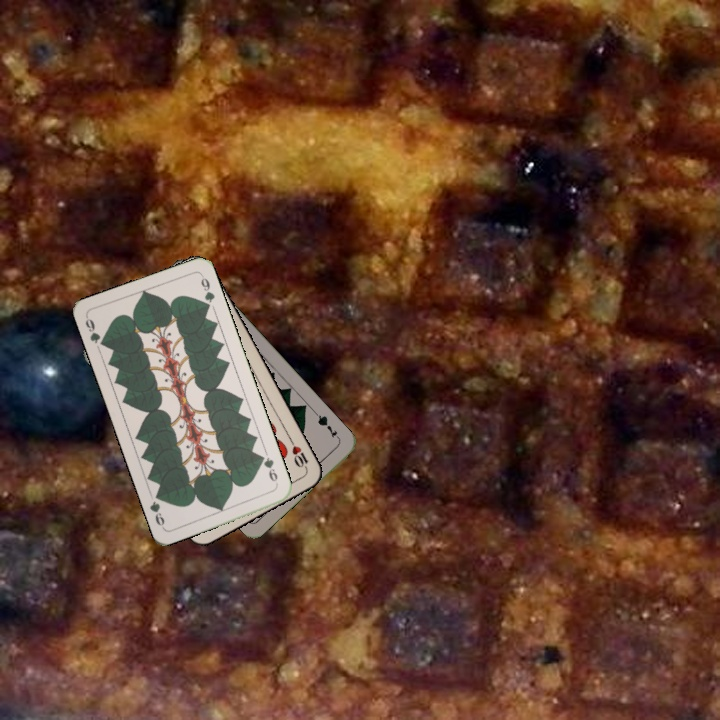G7: (311, 409, 343, 443)
G9: (81, 313, 109, 350), (256, 451, 281, 489)
H10: (285, 435, 311, 472)
